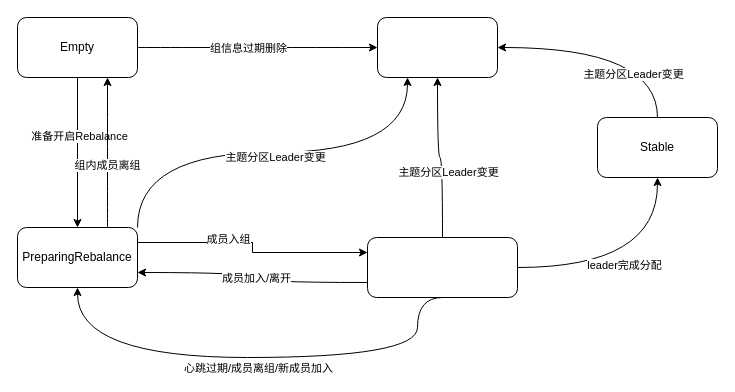
This 735x392 diagram has some shape labels left out. Here are the shapes that lost their labels. From the top down, the centre of each, then its label:
At (437,47): "Dead".
At (442,267): "CompletingRebalance".
